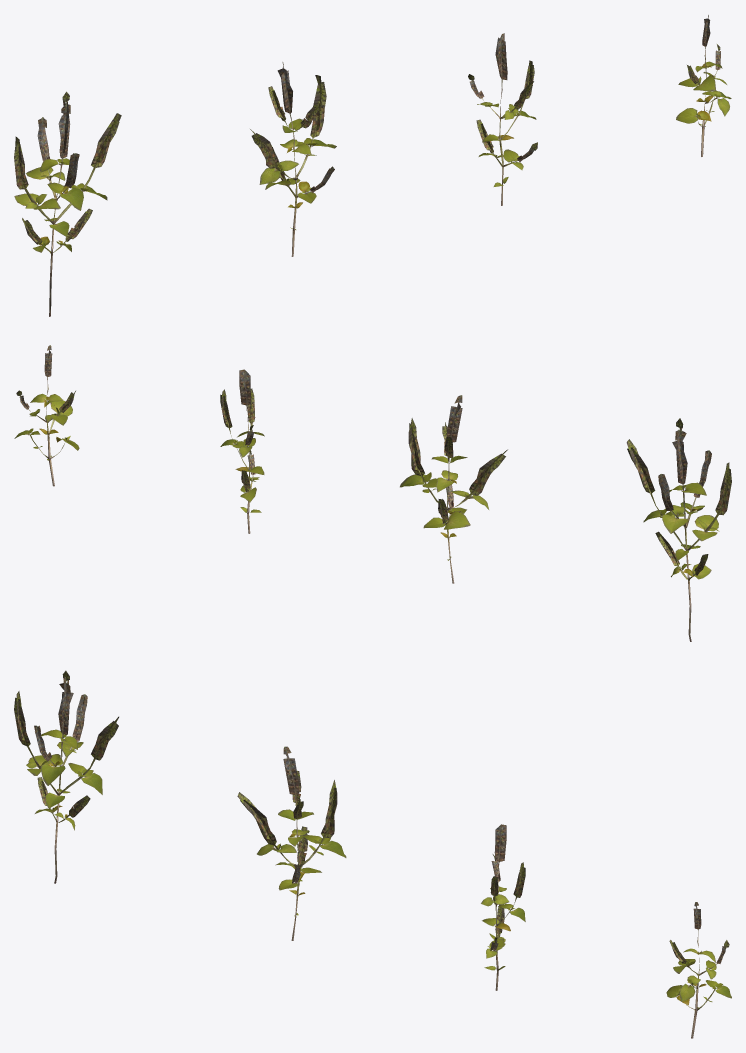
File: ph-shrub_03.glb
3 views of the same model, one above another, from view 1: azimuth 30°, elevation 25°; view 2: azimuth 150°, elevation 25°; view 3: azimuth 330°, elevation 25° (orthographic). The views are drawn at different scales.
Visible parts, largest first — view 1: shrub_03_a; view 2: shrub_03_a; view 3: shrub_03_a.
Boxes of the visible parts, x1,y1,x2,y2 form: shrub_03_a: (14, 15, 731, 316); shrub_03_a: (14, 345, 731, 641); shrub_03_a: (14, 670, 731, 1038).
Bounding box in the file's own units: 1.37 × 0.4028 × 0.1512.
1 material, 1 textured.
